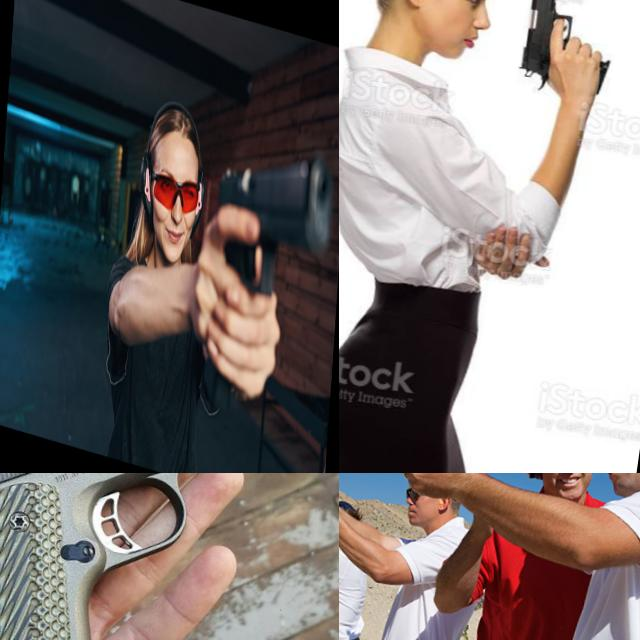handgun: (0, 473, 339, 640), (196, 113, 339, 449), (508, 0, 627, 106), (339, 473, 452, 508), (339, 473, 374, 505), (339, 500, 361, 526)
